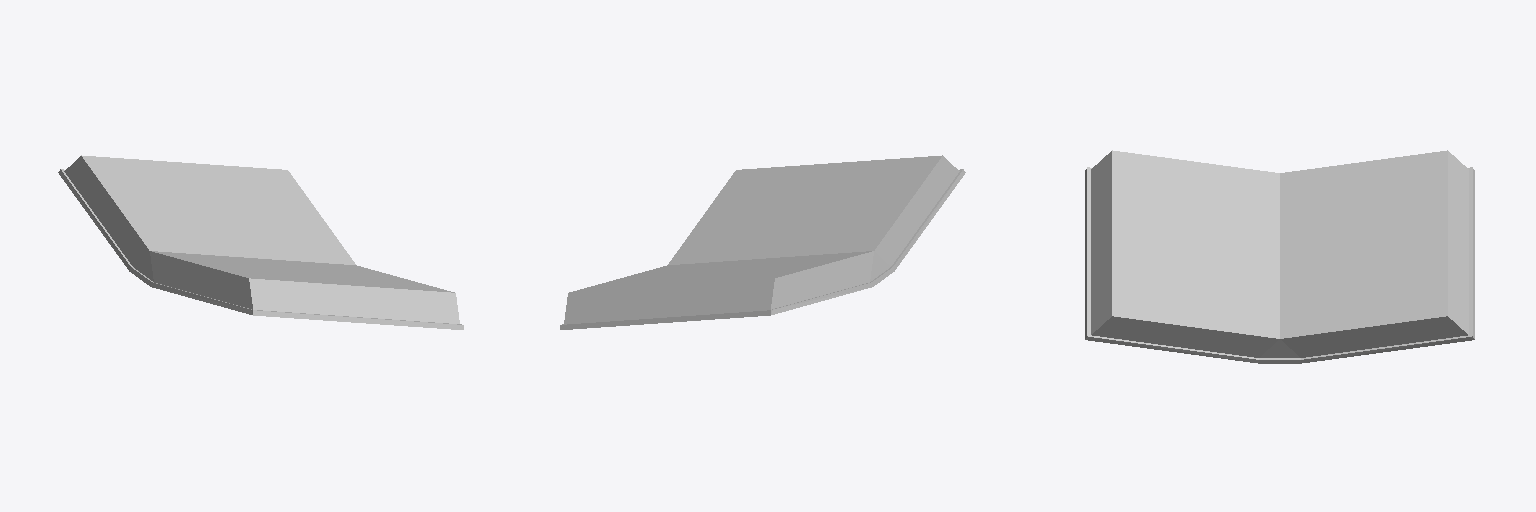
The model's file is book.obj.
The picture shows the model from 3 angles: view 1: azimuth 30°, elevation 25°; view 2: azimuth 150°, elevation 25°; view 3: azimuth 270°, elevation 25°; orthographic projection.
Parts seen in each view (by area): view 1: Book; view 2: Book; view 3: Book.
Part boxes in pixels (left/top/right/bottom): Book: left=58, top=155, right=463, bottom=329; Book: left=560, top=155, right=965, bottom=329; Book: left=1085, top=150, right=1474, bottom=363.
Bounding box in the file's own units: 1.05 × 0.5292 × 1.53.